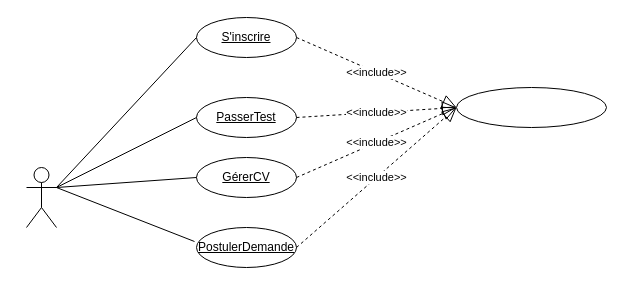
The diagram is 624 pixels wide and 285 high, and some of its shapes have lost their labels. Here are the shapes that lost their labels. From the top down, the centre of each, then its label:
the point at 531,107: Authentifier
the point at 41,197: Candidat
